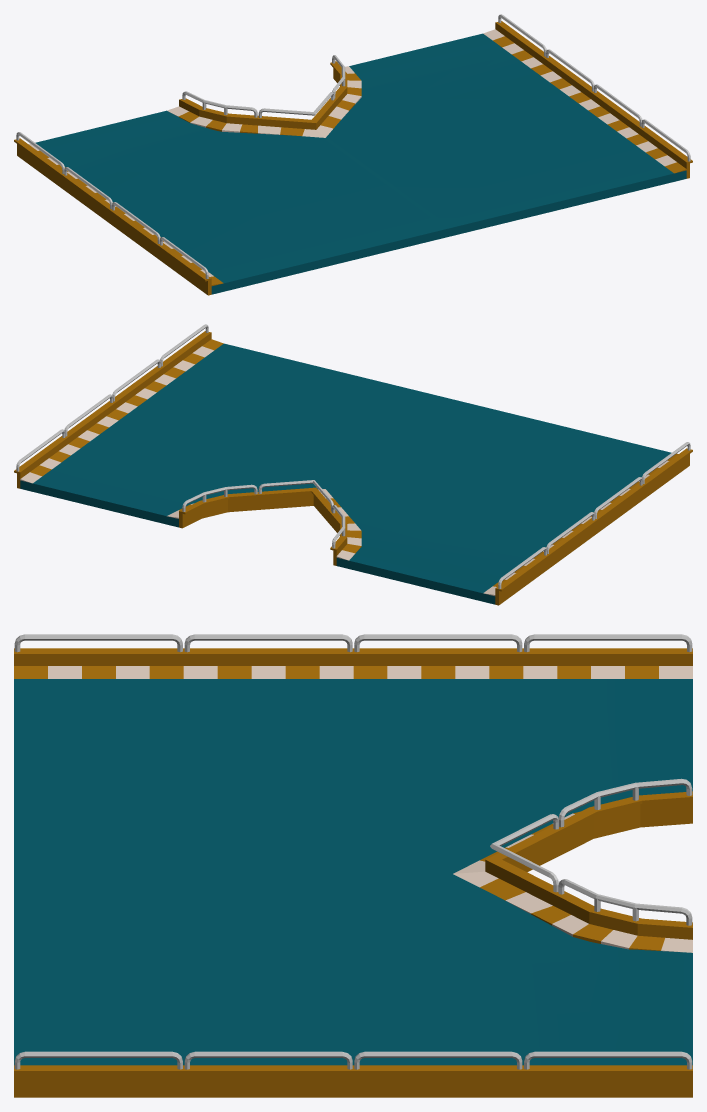
File: split_toWide.FBX
3 views of the same model, one above another, from view 1: azimuth 30°, elevation 25°; view 2: azimuth 150°, elevation 25°; view 3: azimuth 270°, elevation 25° (orthographic). The views are drawn at different scales.
Visible parts, largest first — view 1: split_toWide, wall_r, wall_l, wall_c, curbs_l, curbs_c, curbs_r; view 2: split_toWide, wall_r, wall_c, wall_l, curbs_l, curbs_c, curbs_r; view 3: split_toWide, wall_l, wall_r, wall_c, curbs_r, curbs_c.
Boxes of the visible parts, x1,y1,x2,y2 form: split_toWide: [35, 33, 686, 294]; wall_r: [14, 132, 211, 295]; wall_l: [495, 14, 692, 178]; wall_c: [179, 55, 347, 129]; curbs_l: [483, 29, 686, 173]; curbs_c: [167, 66, 361, 137]; curbs_r: [28, 143, 223, 285]; split_toWide: [20, 343, 671, 604]; wall_r: [495, 442, 692, 605]; wall_c: [179, 480, 347, 565]; wall_l: [14, 324, 211, 488]; curbs_l: [20, 339, 223, 483]; curbs_c: [167, 489, 361, 560]; curbs_r: [483, 453, 678, 595]; split_toWide: [14, 679, 692, 1065]; wall_l: [14, 1051, 692, 1097]; wall_r: [14, 634, 692, 665]; wall_c: [485, 778, 692, 939]; curbs_r: [14, 666, 692, 678]; curbs_c: [453, 811, 692, 952].
Size of what is drawn, in the model's own units: 589 by 400 by 29.31.
